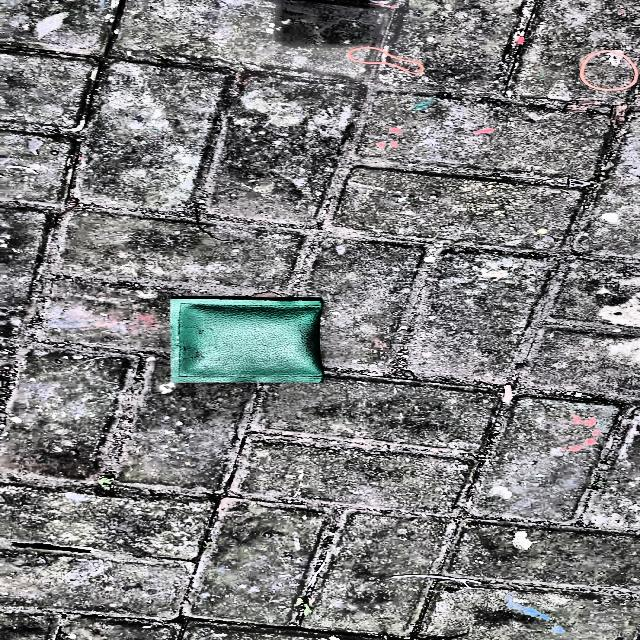payload: (171, 298, 324, 382)
